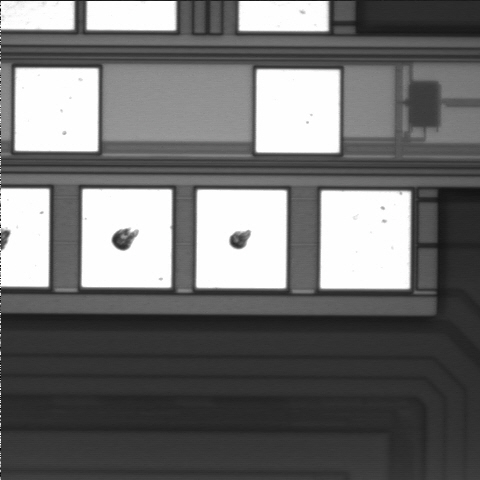pad: (196, 190, 287, 288), (82, 189, 172, 288), (320, 191, 410, 289), (256, 69, 340, 153), (15, 68, 98, 151)
